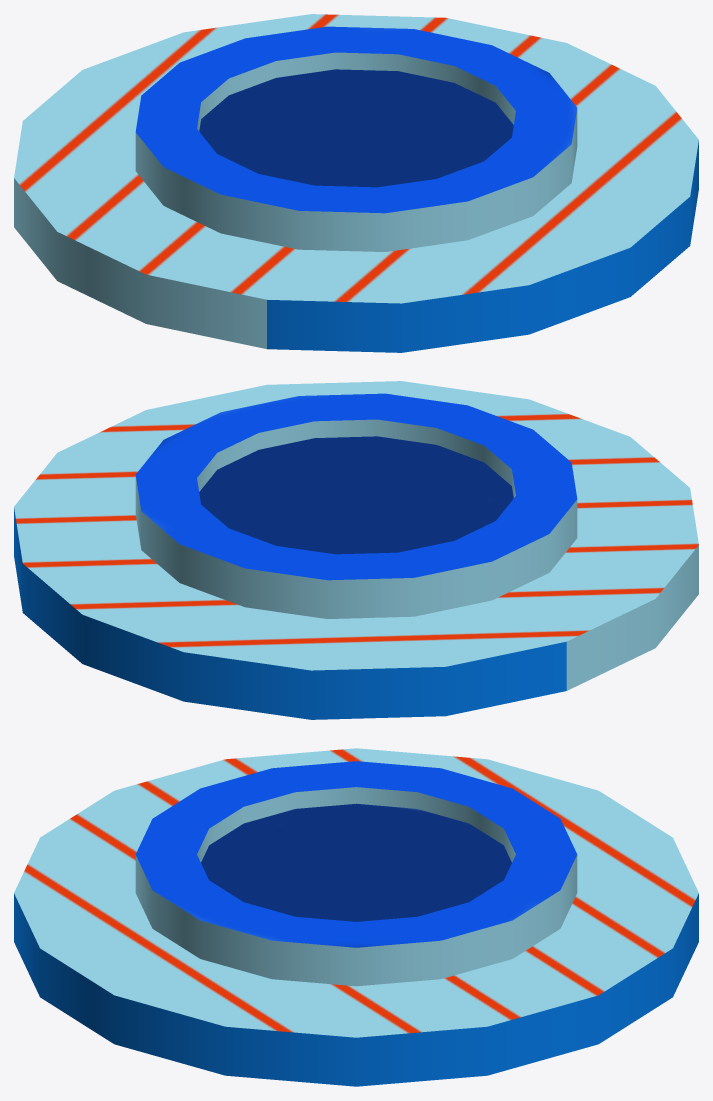
The model's file is DroneSpawner.fbx.
3 renders of one model, top to bottom at view 1: azimuth 30°, elevation 25°; view 2: azimuth 150°, elevation 25°; view 3: azimuth 270°, elevation 25°, orthographic.
Visible parts, largest first — view 1: Cylinder; view 2: Cylinder; view 3: Cylinder.
Part boxes in pixels (x1,y1,x2,y2): Cylinder: [14, 14, 698, 352]; Cylinder: [14, 381, 698, 719]; Cylinder: [14, 748, 698, 1086].
Size of the model in its own units: 200 by 28.19 by 200.
